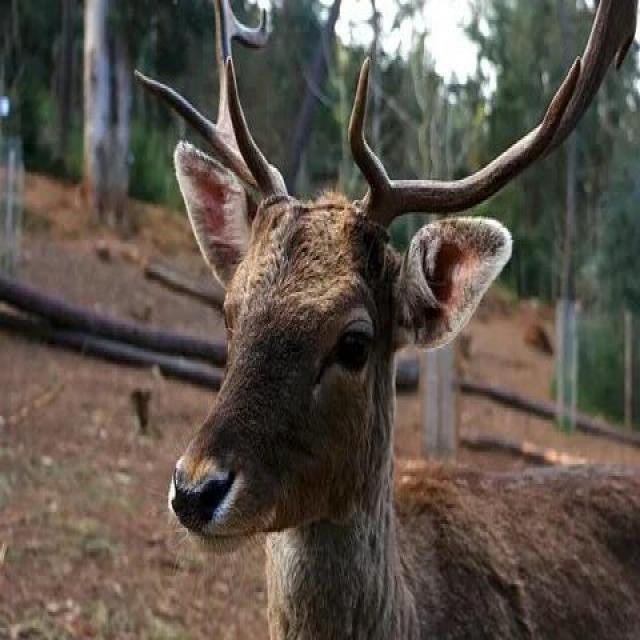deer: (144, 78, 582, 640)
